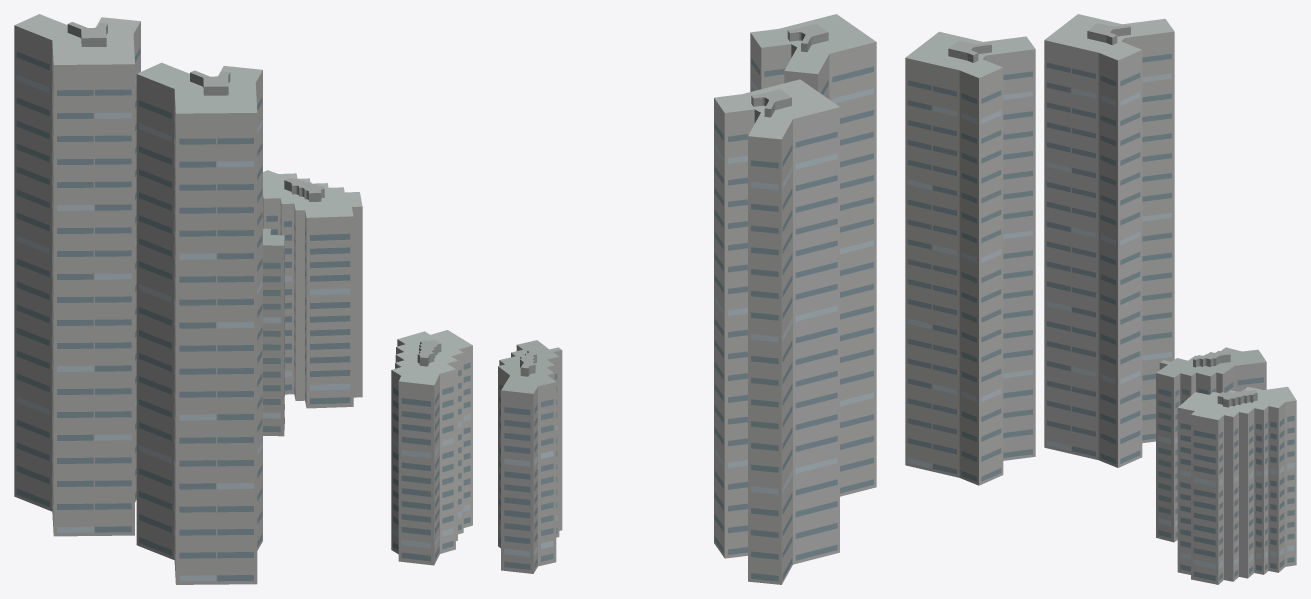
File: apt-a10026626.glb
3 renders of one model, left to right at view 1: azimuth 30°, elevation 25°; view 2: azimuth 150°, elevation 25°; view 3: azimuth 270°, elevation 25°, orthographic. The views are drawn at different scales.
Parts seen in each view (by area): view 1: apt-a10026626; view 2: apt-a10026626; view 3: apt-a10026626.
Boxes of the visible parts, box(x1,y1,x2,y2) form: apt-a10026626: box(14, 14, 362, 584); apt-a10026626: box(391, 14, 876, 584); apt-a10026626: box(905, 14, 1296, 584).
Size of the model in its own units: 110 by 130 by 111.
